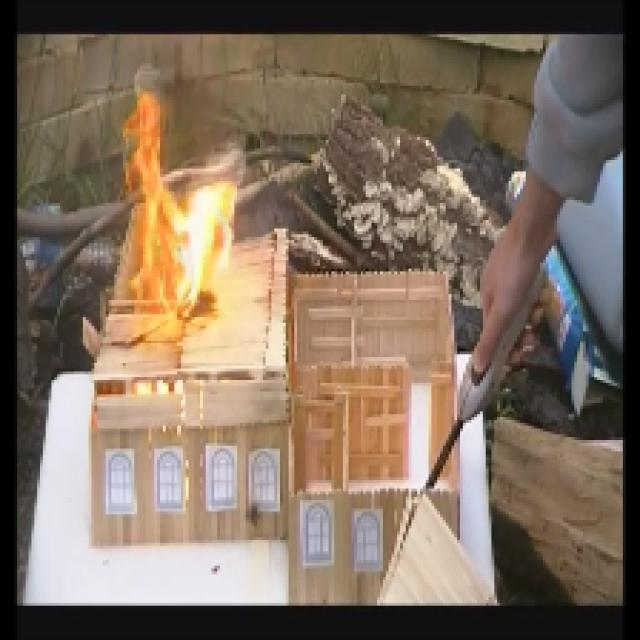Fire: (126, 82, 246, 342)
